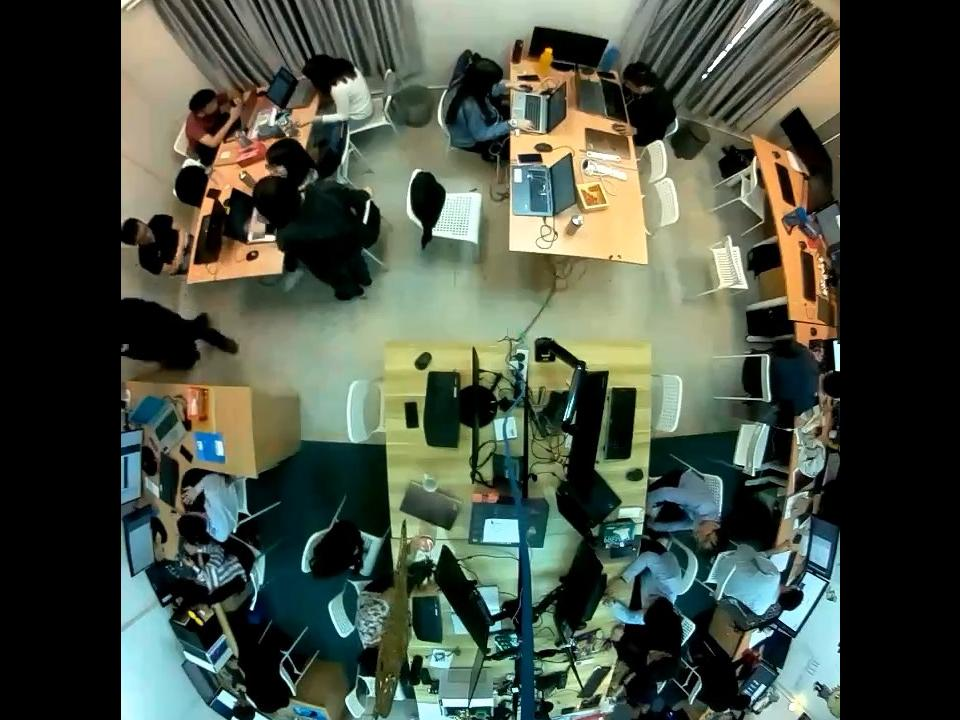name-tag: (120, 343, 130, 354)
